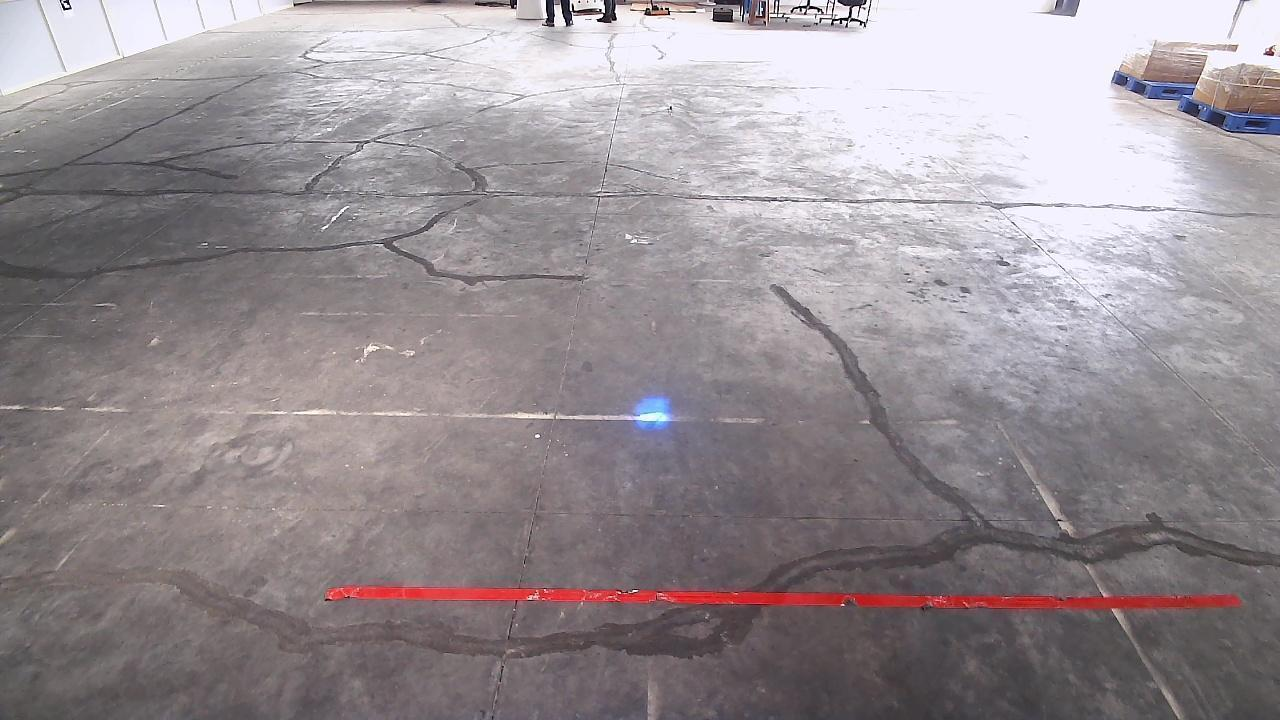red_line: (321, 575, 1257, 612)
